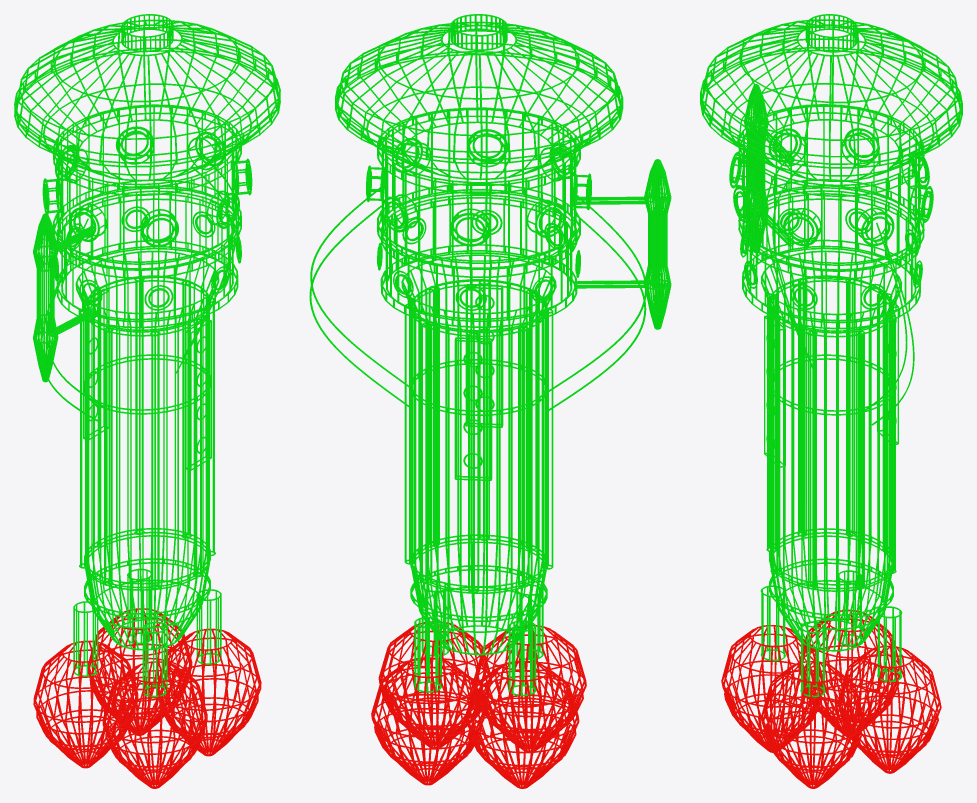
Rendered from mk2-deep-bore-mine-highlight-drill-assemblies.glb.
The picture shows the model from 3 angles, left to right: view 1: azimuth 30°, elevation 25°; view 2: azimuth 150°, elevation 25°; view 3: azimuth 270°, elevation 25°; orthographic projection.
Parts seen in each view (by area): view 1: chassis technical wire, drill-assemblies technical wire, coolant-connectors technical wire, radio-seismic-probe technical wire; view 2: chassis technical wire, drill-assemblies technical wire, coolant-connectors technical wire, radio-seismic-probe technical wire; view 3: chassis technical wire, drill-assemblies technical wire, coolant-connectors technical wire, radio-seismic-probe technical wire.
Boxes of the visible parts, bbox=[...] form: chassis technical wire: bbox=[14, 14, 280, 697]; drill-assemblies technical wire: bbox=[33, 608, 261, 788]; coolant-connectors technical wire: bbox=[42, 126, 252, 247]; radio-seismic-probe technical wire: bbox=[33, 213, 58, 382]; chassis technical wire: bbox=[309, 14, 646, 696]; drill-assemblies technical wire: bbox=[371, 621, 586, 788]; coolant-connectors technical wire: bbox=[366, 129, 591, 246]; radio-seismic-probe technical wire: bbox=[644, 159, 671, 329]; chassis technical wire: bbox=[700, 14, 962, 697]; drill-assemblies technical wire: bbox=[721, 609, 941, 788]; coolant-connectors technical wire: bbox=[729, 128, 933, 246]; radio-seismic-probe technical wire: bbox=[744, 84, 768, 252].
Size of the model in its own units: 1.84 by 4.62 by 1.49.
